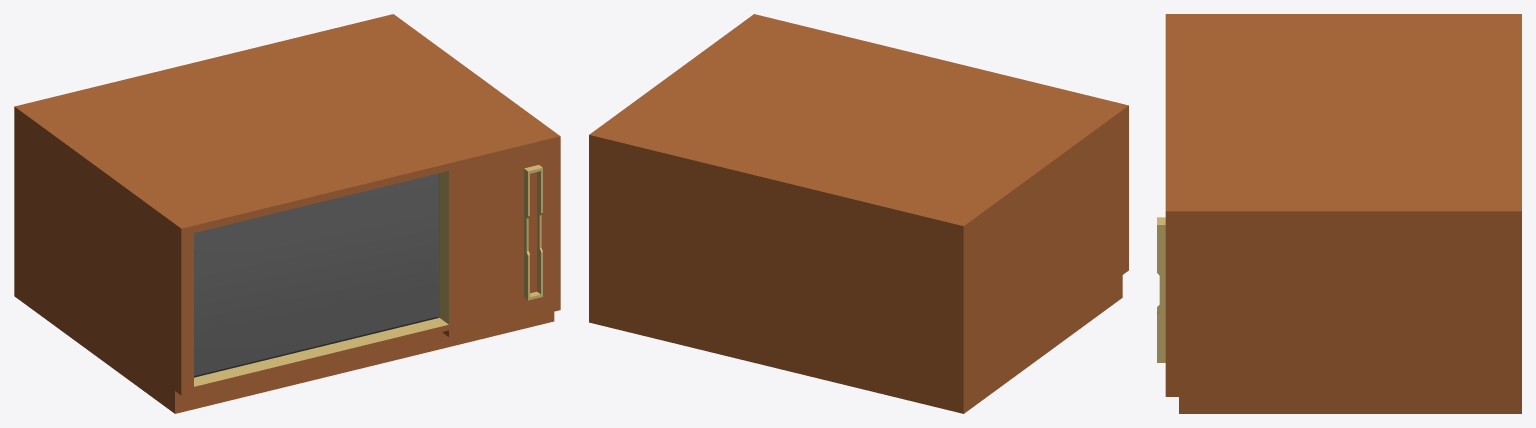
3 views of the same model, side by side, from view 1: azimuth 30°, elevation 25°; view 2: azimuth 150°, elevation 25°; view 3: azimuth 270°, elevation 25° (orthographic). The views are drawn at different scales.
Visible parts, largest first — view 1: TV; view 2: TV; view 3: TV.
Part boxes in pixels (x1,y1,x2,y2): TV: [14, 14, 560, 413]; TV: [589, 14, 1128, 413]; TV: [1157, 14, 1521, 413].
Bounding box in the file's own units: 4.07 × 1.95 × 3.18.
